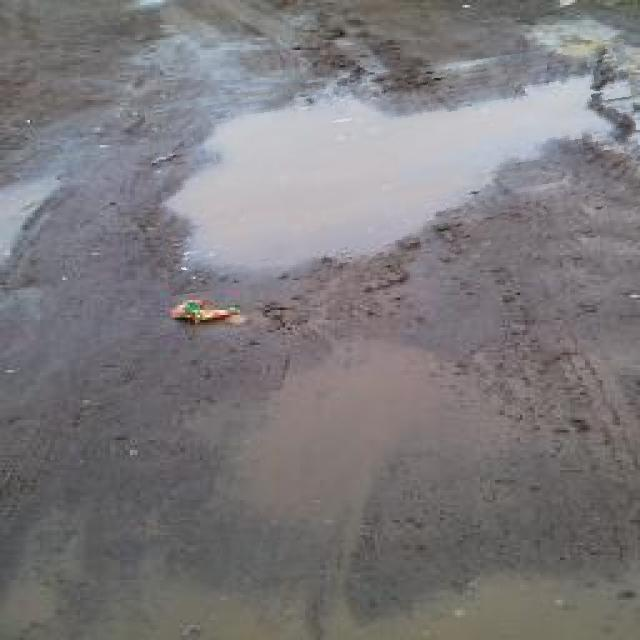puddle: (151, 56, 640, 281)
